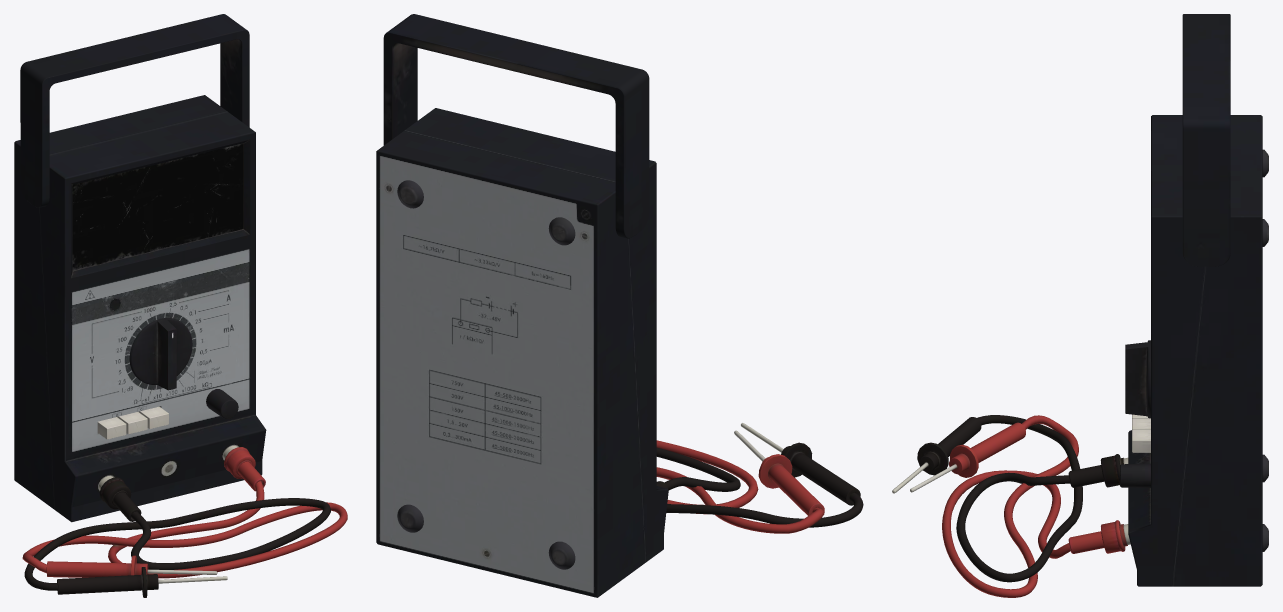
Rendered from retro_multimeter.glb.
The picture shows the model from 3 angles, left to right: view 1: azimuth 30°, elevation 25°; view 2: azimuth 150°, elevation 25°; view 3: azimuth 270°, elevation 25°; orthographic projection. The views are drawn at different scales.
Visible parts, largest first — view 1: retro_multimeter_LOD0; view 2: retro_multimeter_LOD0; view 3: retro_multimeter_LOD0.
Boxes of the visible parts, x1,y1,x2,y2 form: retro_multimeter_LOD0: [14, 14, 347, 597]; retro_multimeter_LOD0: [376, 14, 863, 597]; retro_multimeter_LOD0: [892, 14, 1268, 597].
Size of the model in its own units: 0.216 by 0.2786 by 0.2026.
Materials: 2 (2 with a texture image).
